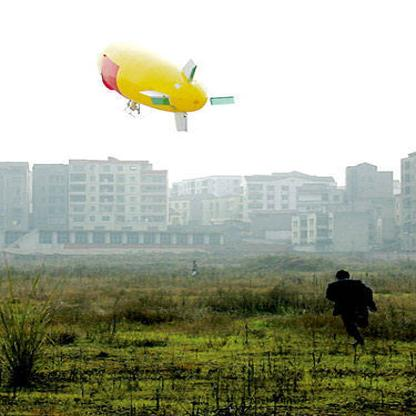Airship: (94, 39, 241, 145)
